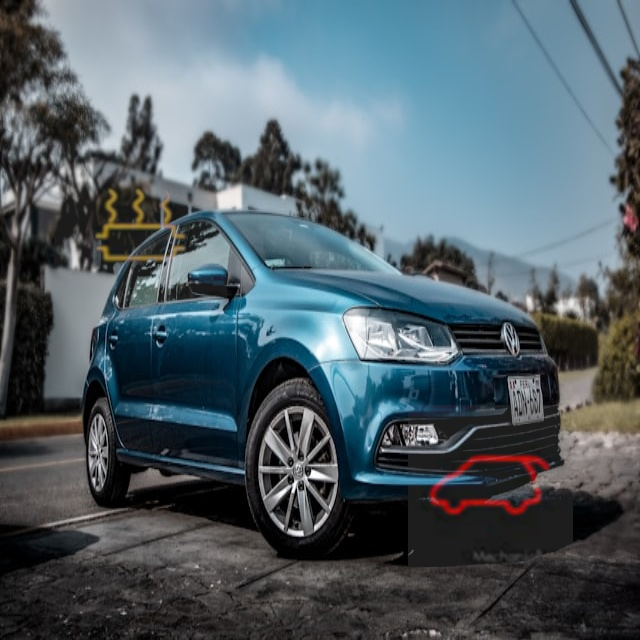symbol: (54, 139, 227, 312), (408, 405, 573, 570)
